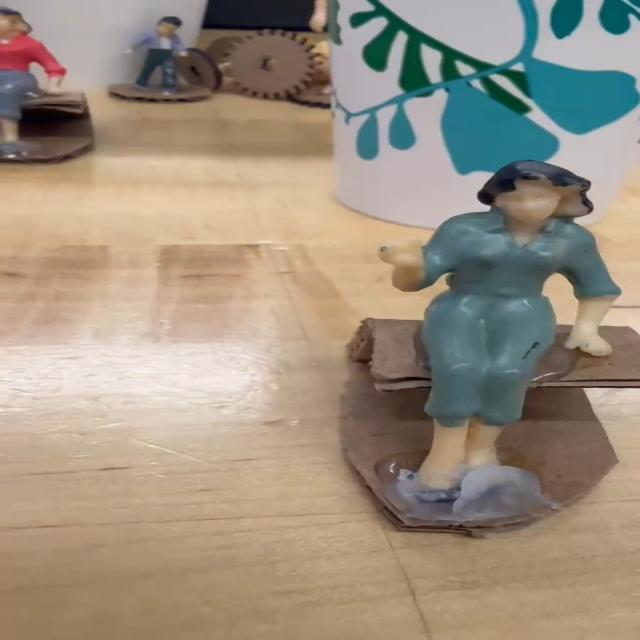Authorized: (309, 166, 640, 640)
